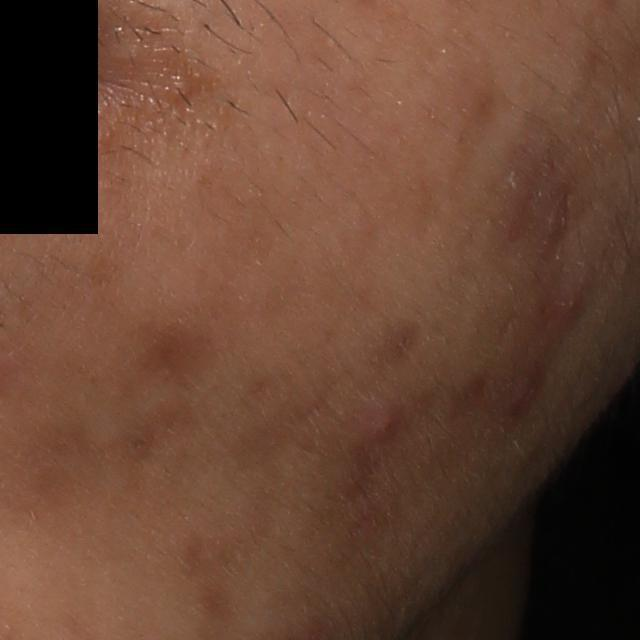papule: (363, 411, 400, 442)
